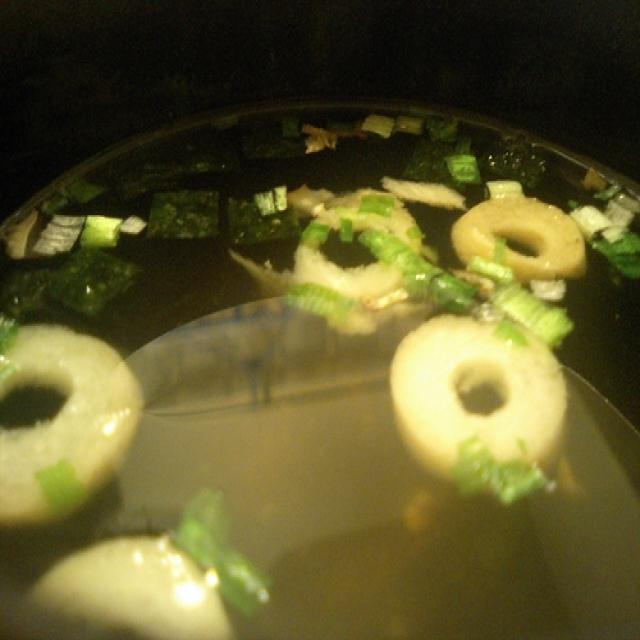汤锅炖物: (8, 116, 631, 608)
